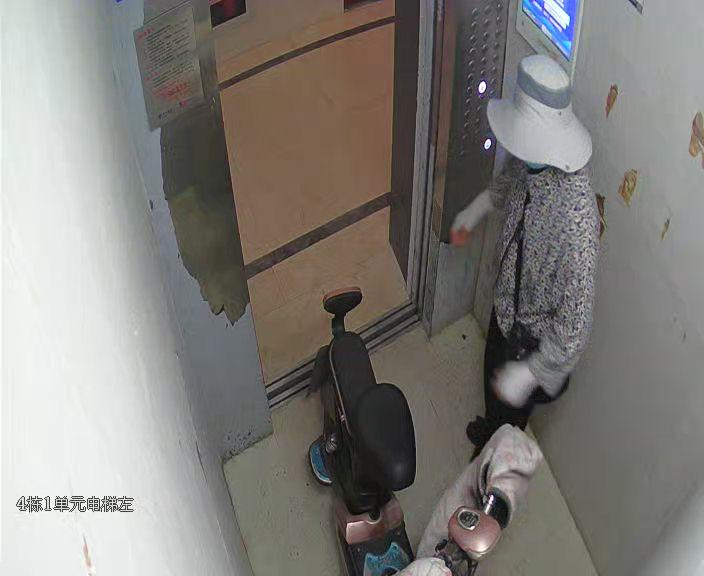Electric-bicycle: (304, 285, 541, 575)
